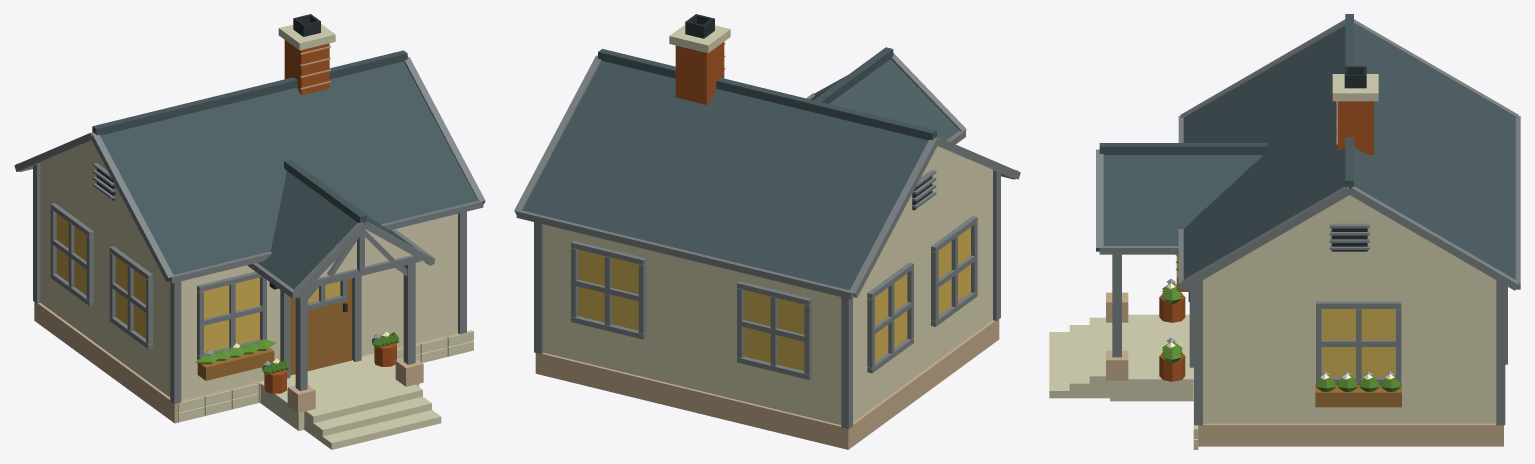
Rendered from House_A_Lv1_LOD1.fbx.
3 views of the same model, side by side, from view 1: azimuth 30°, elevation 25°; view 2: azimuth 150°, elevation 25°; view 3: azimuth 270°, elevation 25° (orthographic). The views are drawn at different scales.
Parts seen in each view (by area): view 1: House_A_Lv1_Medium; view 2: House_A_Lv1_Medium; view 3: House_A_Lv1_Medium.
Part boxes in pixels (x1,y1,x2,y2): House_A_Lv1_Medium: [14, 14, 485, 449]; House_A_Lv1_Medium: [514, 14, 1020, 449]; House_A_Lv1_Medium: [1049, 14, 1520, 449].
Size of the model in its own units: 10.05 by 9.04 by 11.69.
